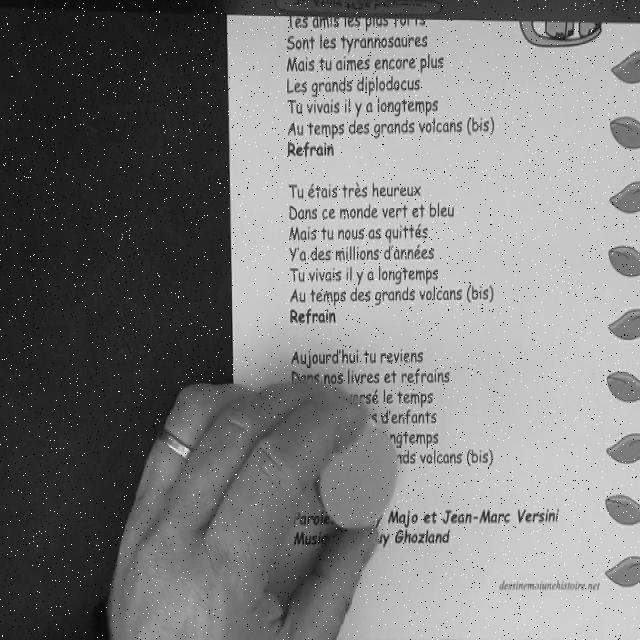round: (313, 421, 399, 530)
